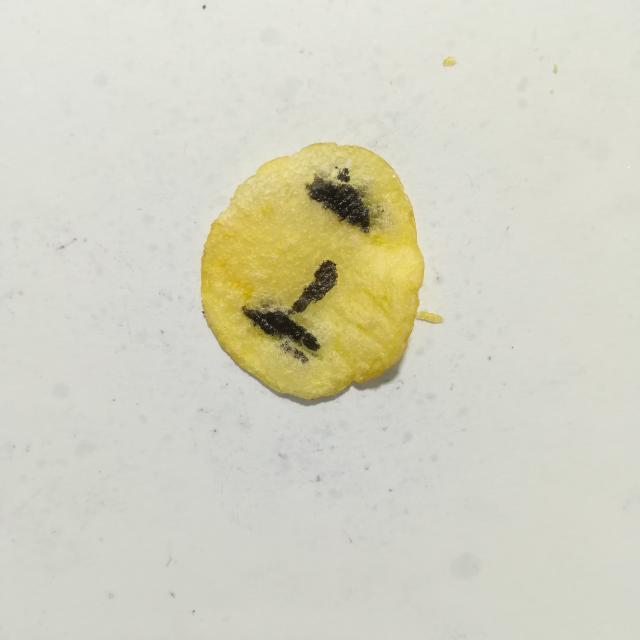chip: (201, 143, 442, 398)
damaged: (307, 176, 370, 232), (243, 307, 319, 351), (287, 260, 337, 315), (337, 168, 350, 183), (335, 166, 338, 169)
semi-damaged: (353, 183, 390, 231), (279, 336, 318, 357), (248, 297, 290, 314), (281, 341, 308, 363)
